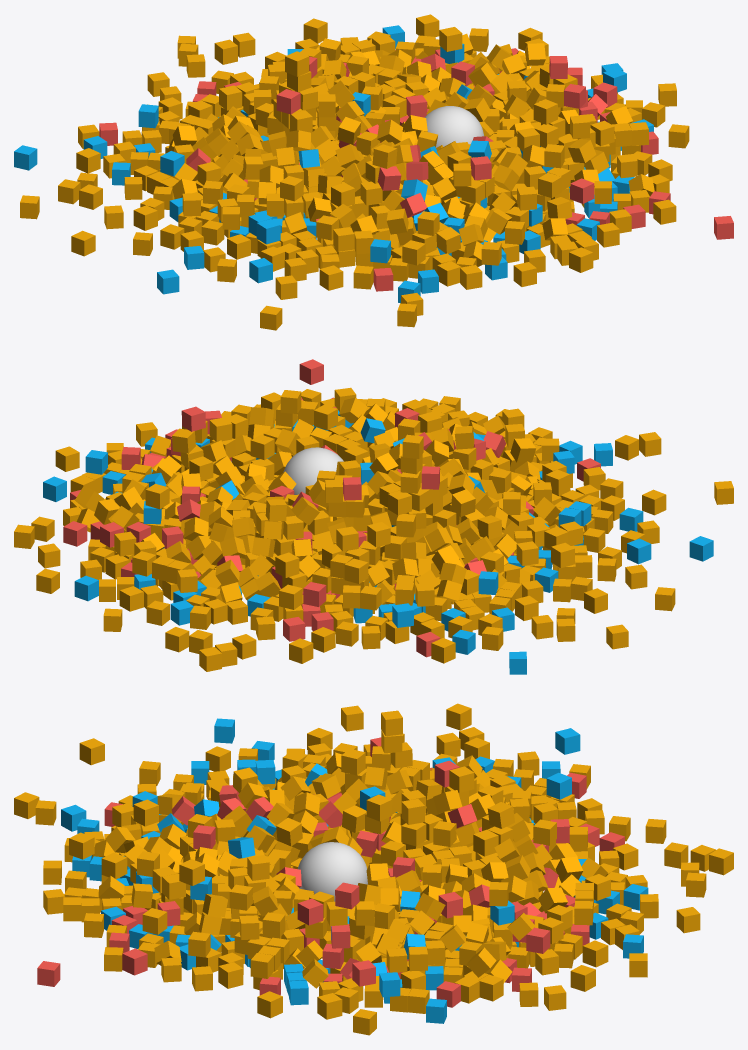
Rendered from simple.glb.
The picture shows the model from 3 angles, top to bottom: view 1: azimuth 30°, elevation 25°; view 2: azimuth 150°, elevation 25°; view 3: azimuth 270°, elevation 25°; orthographic projection. The views are drawn at different scales.
Visible parts, largest first — view 1: Sphere, Cube.771, Cube.537, Cube.759, Cube.786, Cube.892, Cube.903, Cube.999, Cube.409, Cube.750, Cube.884, Cube.1096 (+1 smaller); view 2: Sphere, Cube.906, Cube.819, Cube.1100, Cube.535, Cube.726, Cube.784, Cube.902, Cube.441, Cube.483, Cube.820, Cube.878 (+13 smaller); view 3: Sphere, Cube.760, Cube.376, Cube.1113, Cube.432, Cube.787, Cube.970, Cube.828, Cube.896, Cube.1027, Cube.1097, Cube.1107 (+26 smaller).
Boxes of the visible parts, bbox=[...] form: Sphere: bbox=[425, 106, 483, 147]; Cube.771: bbox=[76, 148, 100, 173]; Cube.537: bbox=[276, 89, 300, 114]; Cube.759: bbox=[285, 51, 309, 76]; Cube.786: bbox=[71, 230, 95, 256]; Cube.892: bbox=[133, 205, 157, 230]; Cube.903: bbox=[256, 219, 280, 244]; Cube.999: bbox=[533, 99, 557, 124]; Cube.409: bbox=[436, 227, 460, 253]; Cube.750: bbox=[569, 247, 593, 272]; Cube.884: bbox=[319, 265, 343, 290]; Cube.1096: bbox=[570, 178, 594, 203]; Sphere: bbox=[283, 447, 343, 494]; Cube.906: bbox=[689, 536, 713, 561]; Cube.819: bbox=[119, 586, 143, 611]; Cube.1100: bbox=[299, 359, 323, 384]; Cube.535: bbox=[74, 575, 98, 601]; Cube.726: bbox=[63, 521, 87, 546]; Cube.784: bbox=[510, 438, 536, 462]; Cube.902: bbox=[627, 538, 651, 564]; Cube.441: bbox=[451, 489, 475, 517]; Cube.483: bbox=[344, 558, 368, 583]; Cube.820: bbox=[289, 638, 313, 663]; Cube.878: bbox=[642, 489, 666, 515]; Sphere: bbox=[298, 842, 367, 901]; Cube.760: bbox=[366, 794, 392, 821]; Cube.376: bbox=[582, 940, 608, 967]; Cube.1113: bbox=[297, 898, 323, 925]; Cube.432: bbox=[276, 817, 302, 846]; Cube.787: bbox=[101, 852, 127, 879]; Cube.970: bbox=[487, 802, 514, 828]; Cube.828: bbox=[570, 965, 595, 991]; Cube.896: bbox=[446, 703, 471, 730]; Cube.1027: bbox=[69, 832, 94, 859]; Cube.1097: bbox=[122, 948, 147, 975]; Cube.1107: bbox=[546, 772, 571, 799].
Size of what is drawn, in the model's own units: 82.56 by 16.03 by 79.6.
